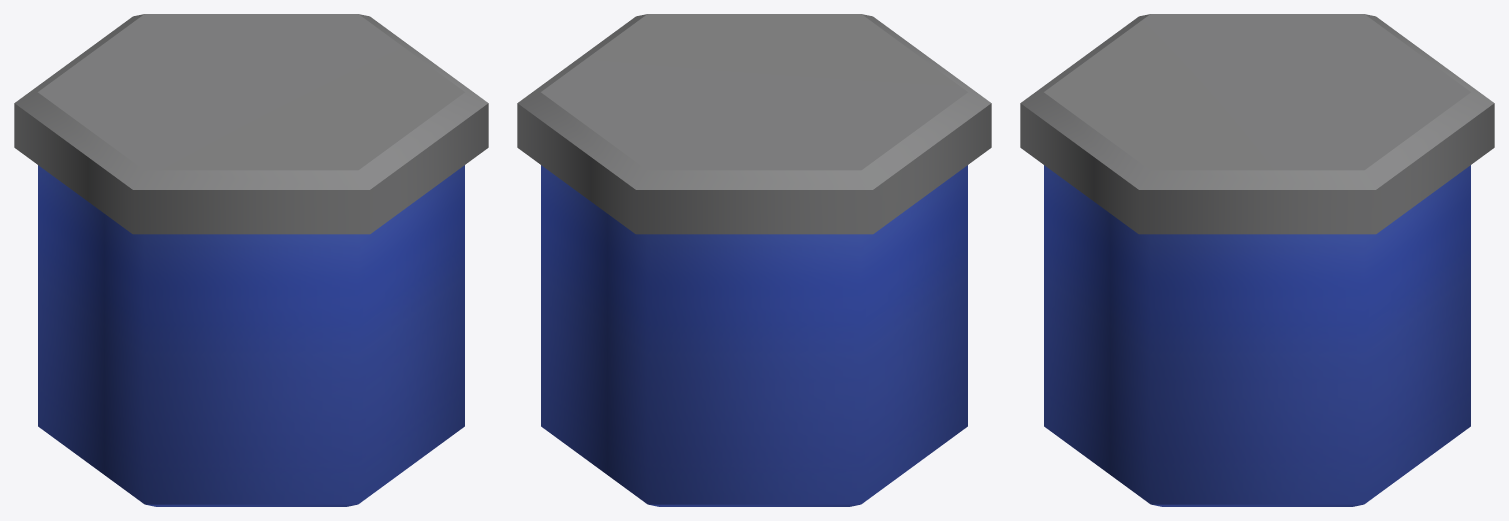
The model's file is Jar_2_E.glb.
3 renders of one model, left to right at view 1: azimuth 30°, elevation 25°; view 2: azimuth 150°, elevation 25°; view 3: azimuth 270°, elevation 25°, orthographic.
Visible parts, largest first — view 1: Jar_2_E; view 2: Jar_2_E; view 3: Jar_2_E.
Boxes of the visible parts, left/top/right/bottom form: Jar_2_E: left=14, top=14, right=488, bottom=506; Jar_2_E: left=517, top=14, right=991, bottom=506; Jar_2_E: left=1020, top=14, right=1494, bottom=506.
Size of the model in its own units: 0.1799 by 0.1669 by 0.2077.
1 material, 1 textured.
